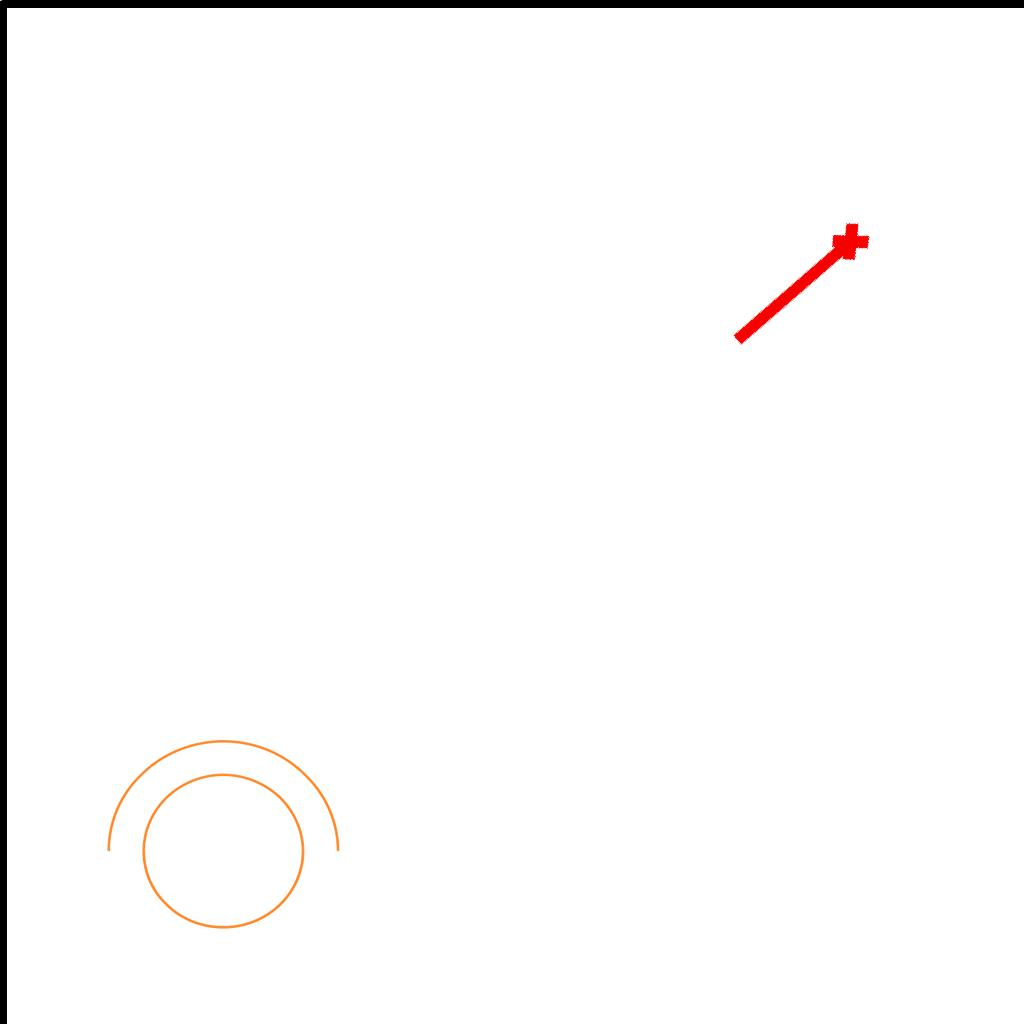ASR_Ansaugoeffnung: (719, 212, 883, 364)
Scheinwerfer_fuer_Alarmbeleuchtung: (85, 729, 349, 954)
